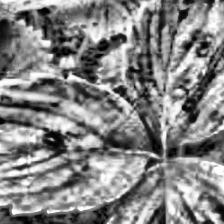Leaf Spot: (0, 72, 150, 217), (121, 0, 223, 150), (100, 154, 224, 224)
